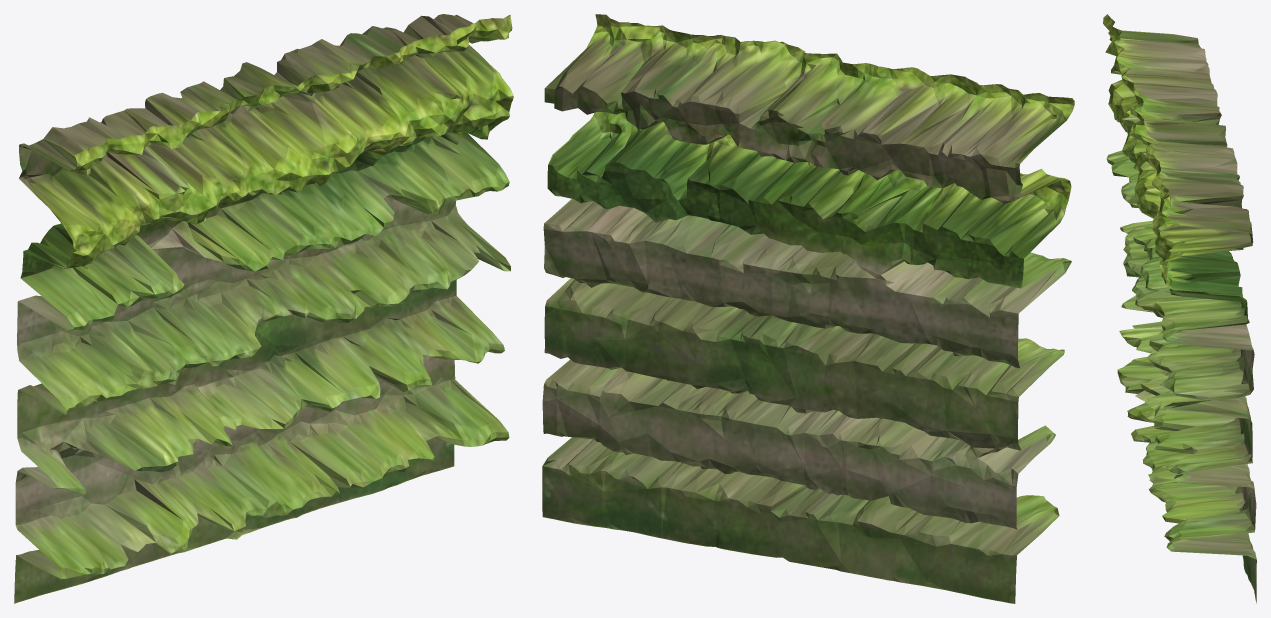
Rendered from map_40_20.obj.
The picture shows the model from 3 angles, left to right: view 1: azimuth 30°, elevation 25°; view 2: azimuth 150°, elevation 25°; view 3: azimuth 270°, elevation 25°; orthographic projection. The views are drawn at different scales.
Parts seen in each view (by area): view 1: grp1; view 2: grp1; view 3: grp1.
Part boxes in pixels (bbox=[...]): grp1: bbox=[14, 14, 513, 603]; grp1: bbox=[542, 14, 1074, 603]; grp1: bbox=[1103, 14, 1256, 603].
Bounding box in the file's own units: 10 × 10 × 3.46.
1 material, 1 textured.
